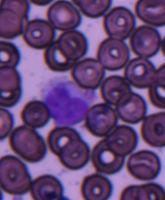M: (41, 76, 92, 125)
